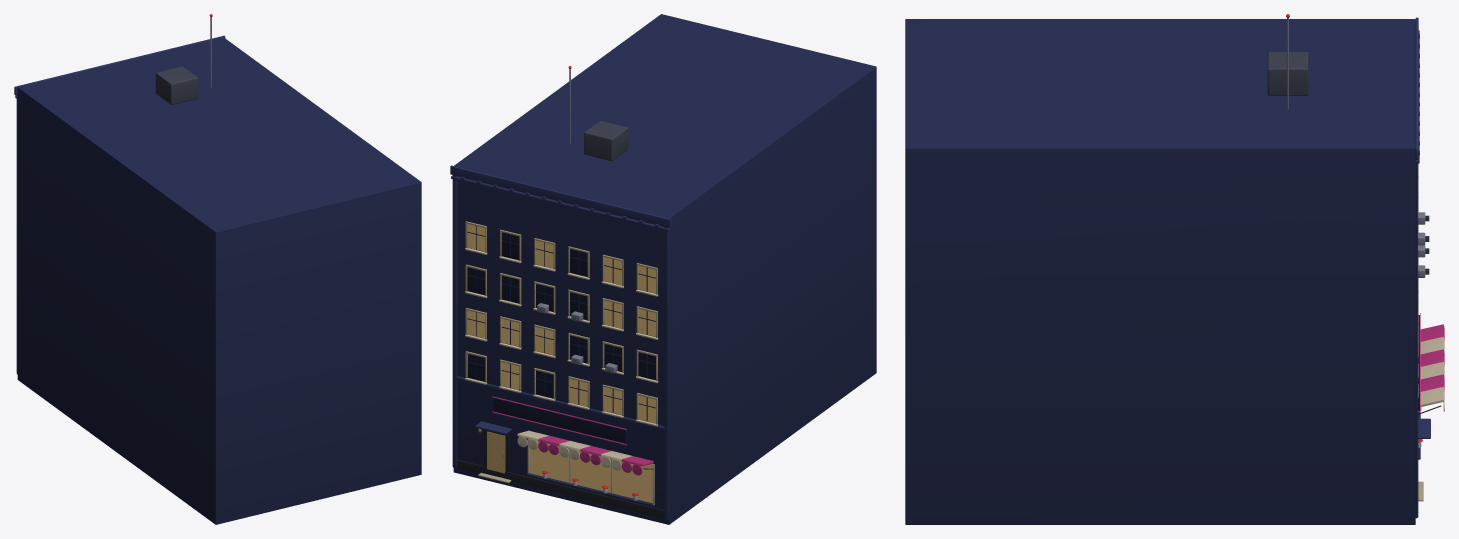
The model's file is SM_City_Bld_Diner.fbx.
The picture shows the model from 3 angles, left to right: view 1: azimuth 30°, elevation 25°; view 2: azimuth 150°, elevation 25°; view 3: azimuth 270°, elevation 25°; orthographic projection. The views are drawn at different scales.
Parts seen in each view (by area): view 1: SM_City_Bld_Diner; view 2: SM_City_Bld_Diner; view 3: SM_City_Bld_Diner.
Boxes of the visible parts, x1,y1,x2,y2 form: SM_City_Bld_Diner: (14,14,421,524); SM_City_Bld_Diner: (450,14,876,524); SM_City_Bld_Diner: (905,14,1444,524).
Bounding box in the file's own units: 1224 × 2042 × 2114.
